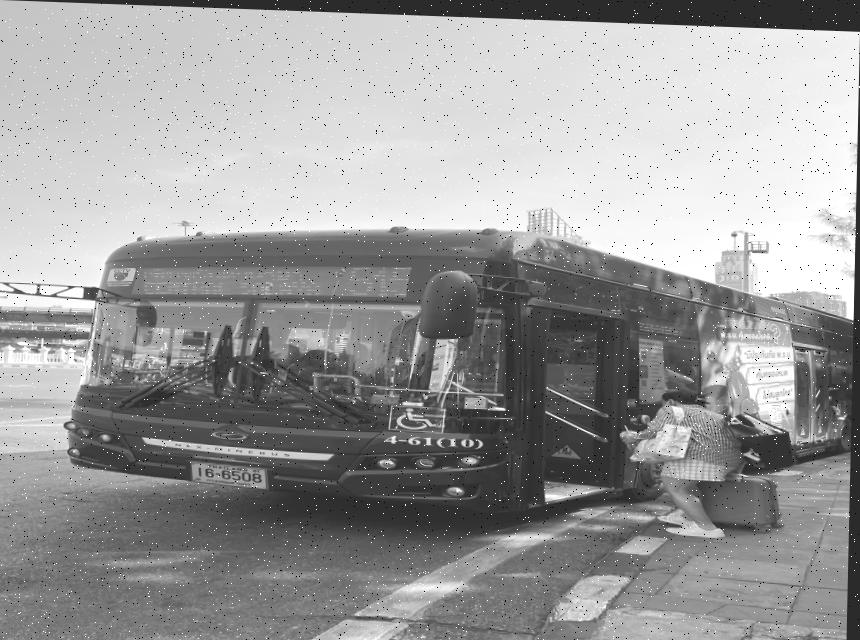Bus Line Number: (336, 254, 422, 298)
Bus Side Number: (381, 429, 489, 449)
Destination Sign: (132, 260, 326, 300)
TSB-Bus: (66, 227, 855, 513)
